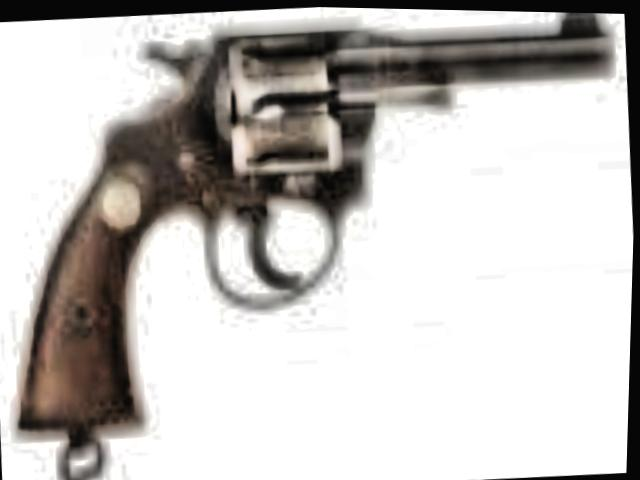pistol: (0, 0, 639, 452)
